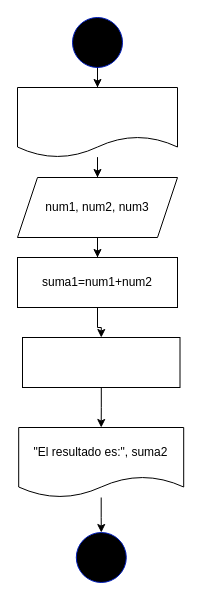
Some shapes in this 202 by 600 pixel diagram are drawn without their labels. Here are the shapes that lost their labels. From the top down, the centre of each, then its label:
[97,122]: "Ingrese tres numeros"
[101,362]: suma2=suma1+num3
